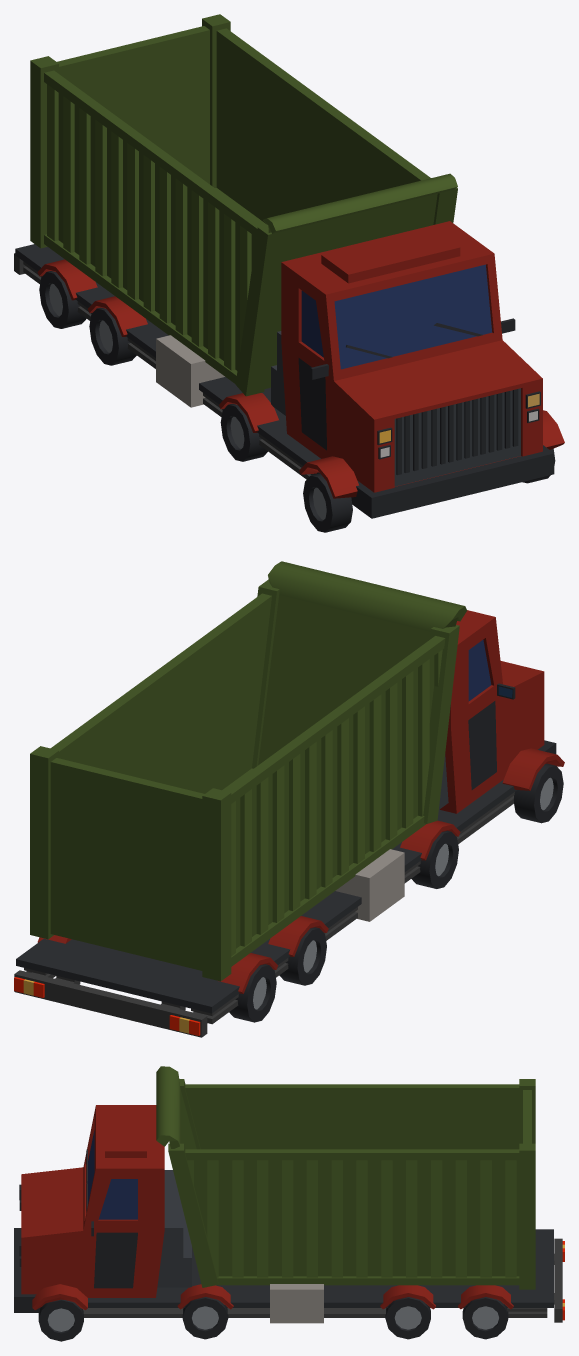
File: DumpTruck_2.fbx
3 renders of one model, top to bottom at view 1: azimuth 30°, elevation 25°; view 2: azimuth 150°, elevation 25°; view 3: azimuth 270°, elevation 25°, orthographic. The views are drawn at different scales.
Parts seen in each view (by area): view 1: DumpTruck_2; view 2: DumpTruck_2; view 3: DumpTruck_2.
Part boxes in pixels (x1,y1,x2,y2): DumpTruck_2: (14,14,564,532); DumpTruck_2: (14,561,564,1037); DumpTruck_2: (14,1066,564,1341).
Bounding box in the file's own units: 191 × 205 × 517.
